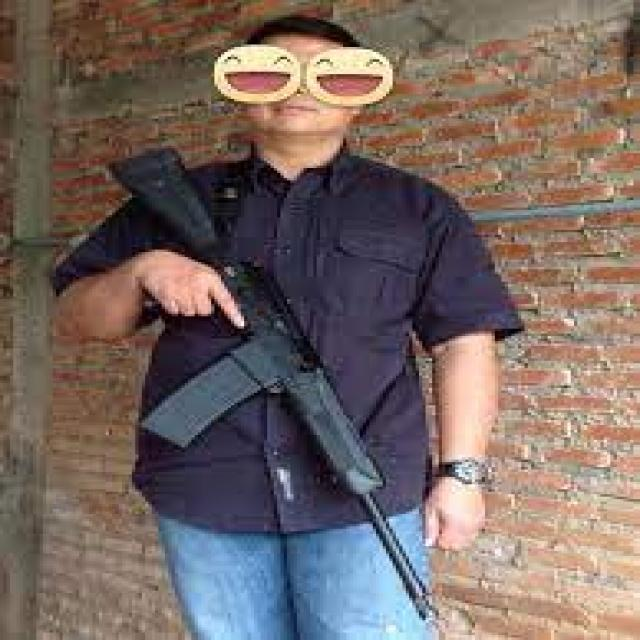weapon: (105, 147, 442, 621)
